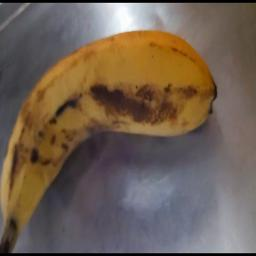Banana Semirotten: (2, 22, 256, 256)
